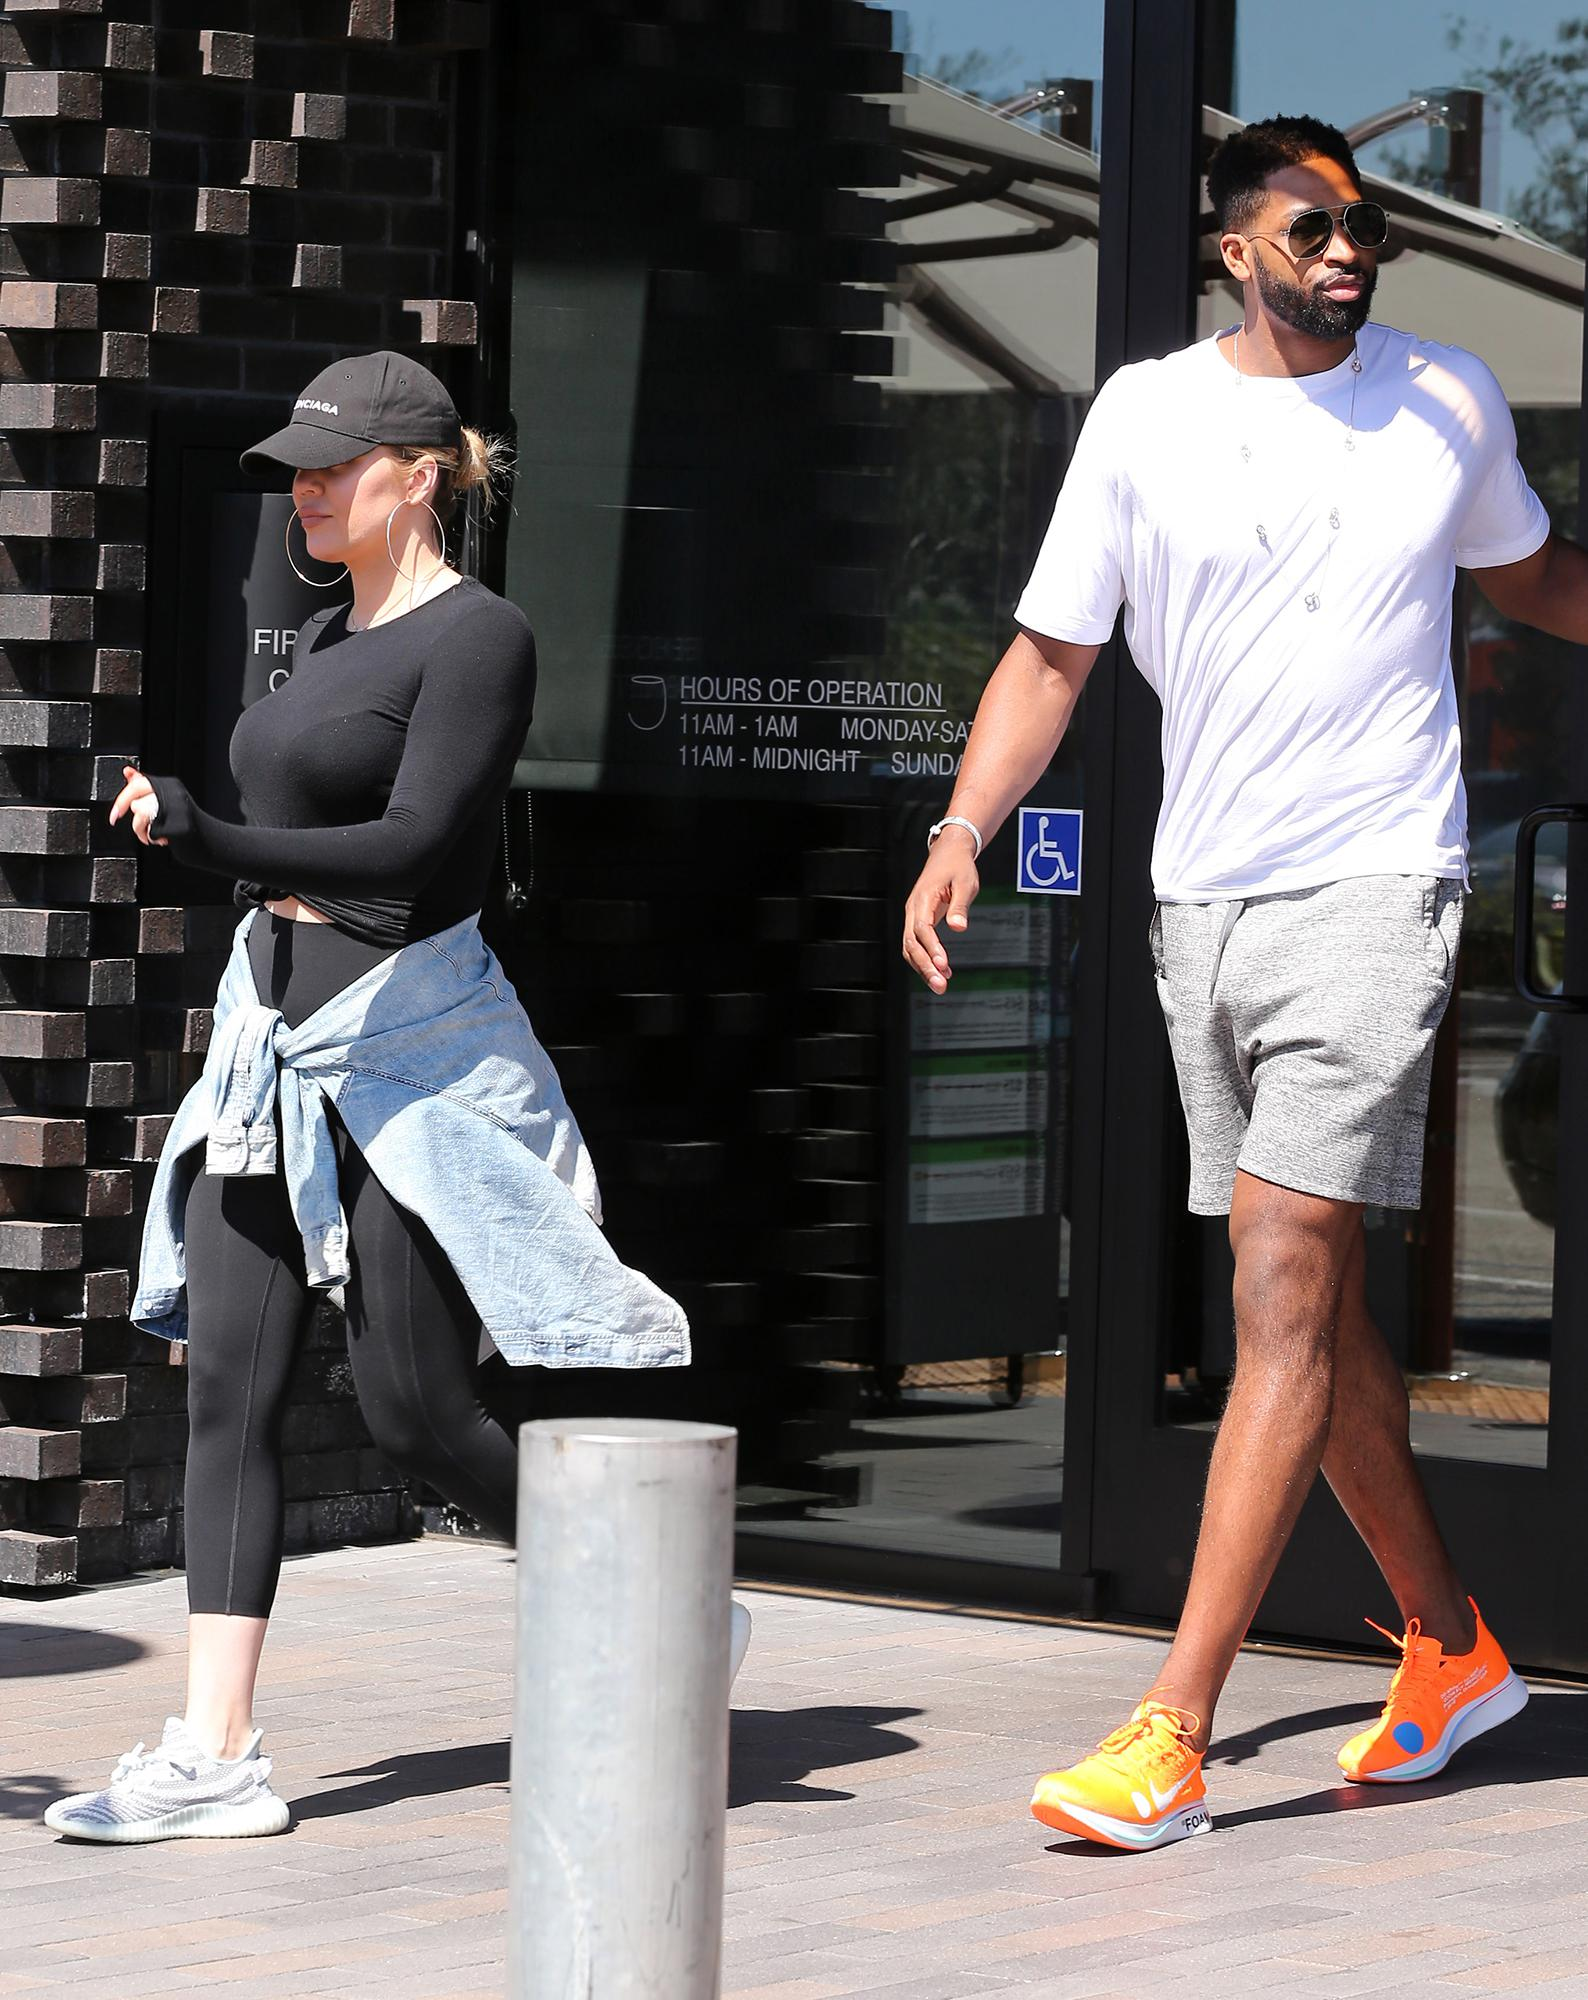Person: (927, 150, 1526, 1775), (102, 375, 619, 1850)
